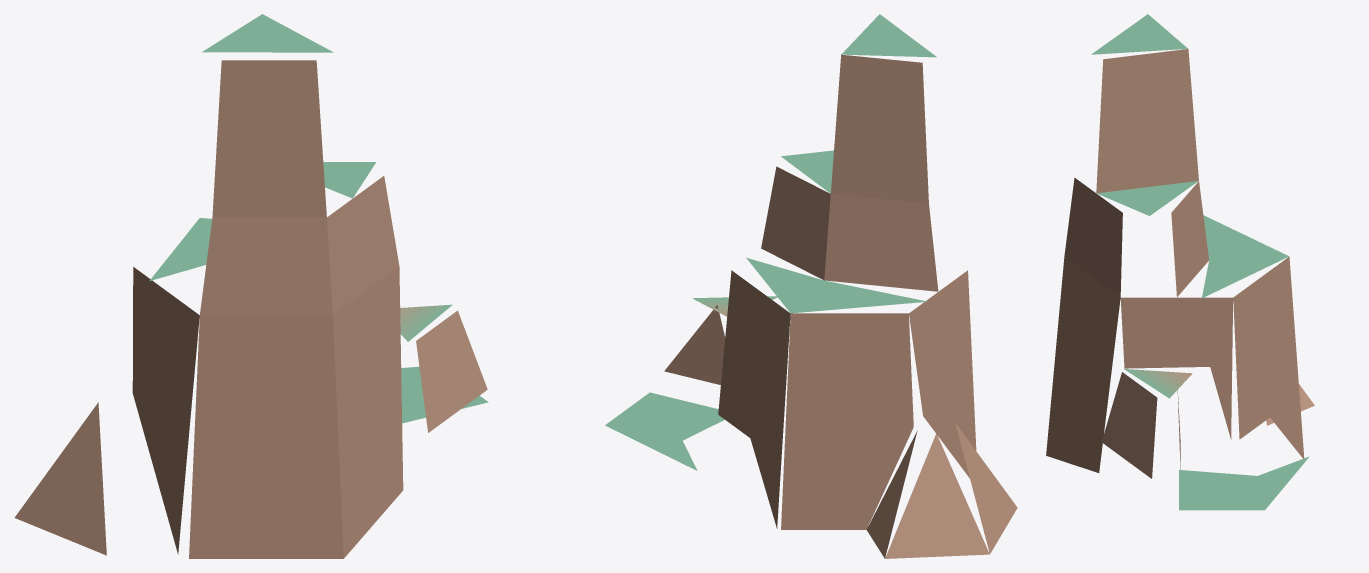
File: rock_tall.glb
3 renders of one model, left to right at view 1: azimuth 30°, elevation 25°; view 2: azimuth 150°, elevation 25°; view 3: azimuth 270°, elevation 25°, orthographic. The views are drawn at different scales.
Visible parts, largest first — view 1: rock_tall; view 2: rock_tall; view 3: rock_tall.
Part boxes in pixels (x1,y1,x2,y2): rock_tall: (14,14,488,558); rock_tall: (605,14,1017,558); rock_tall: (1046,14,1314,510).
Size of the model in its own units: 1.18 by 1.2 by 0.8199.
